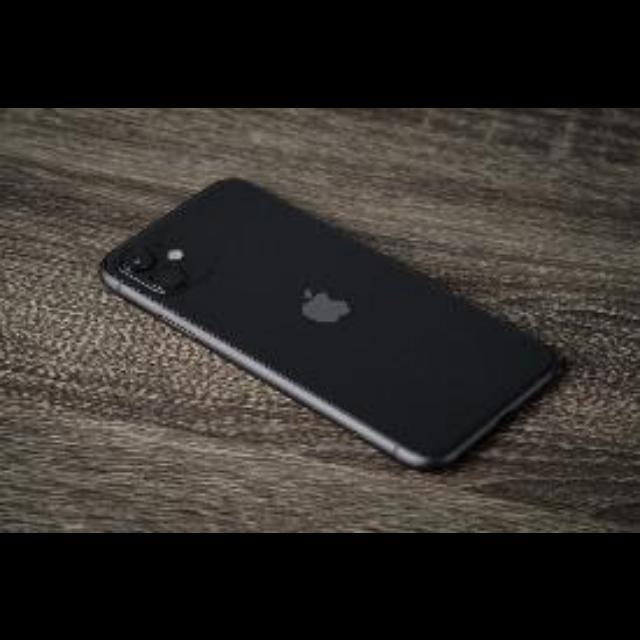PhoneUse: (99, 178, 562, 474)
